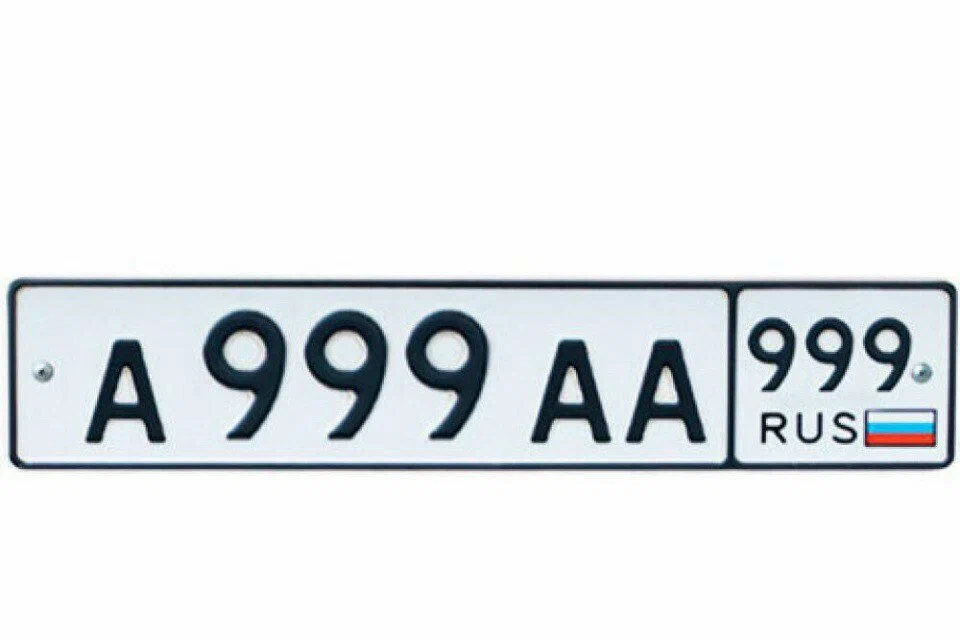number_plate: (43, 295, 942, 459)
